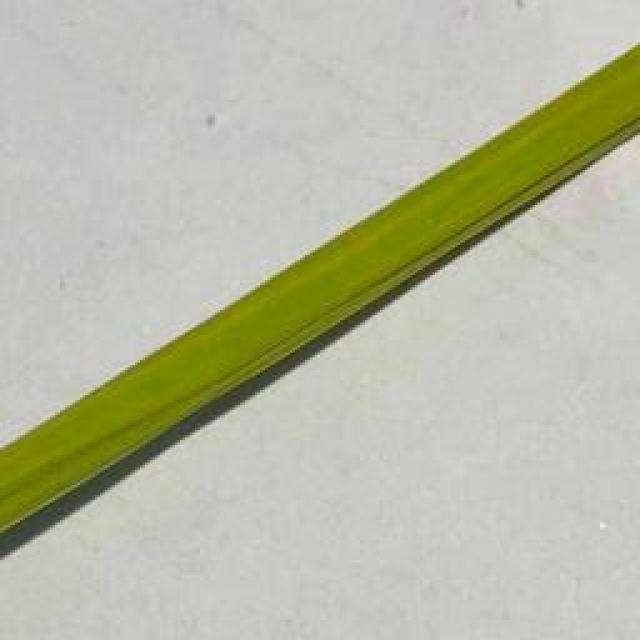Healthy-Plant: (0, 45, 640, 533)
